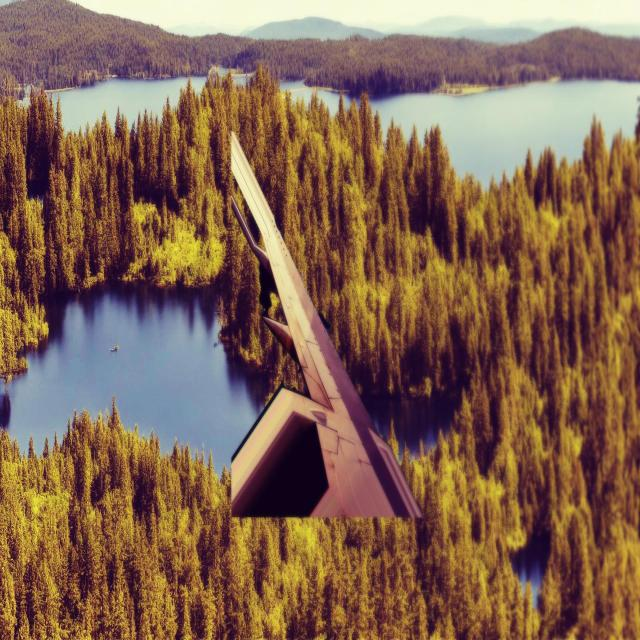airplane: (228, 129, 423, 519)
